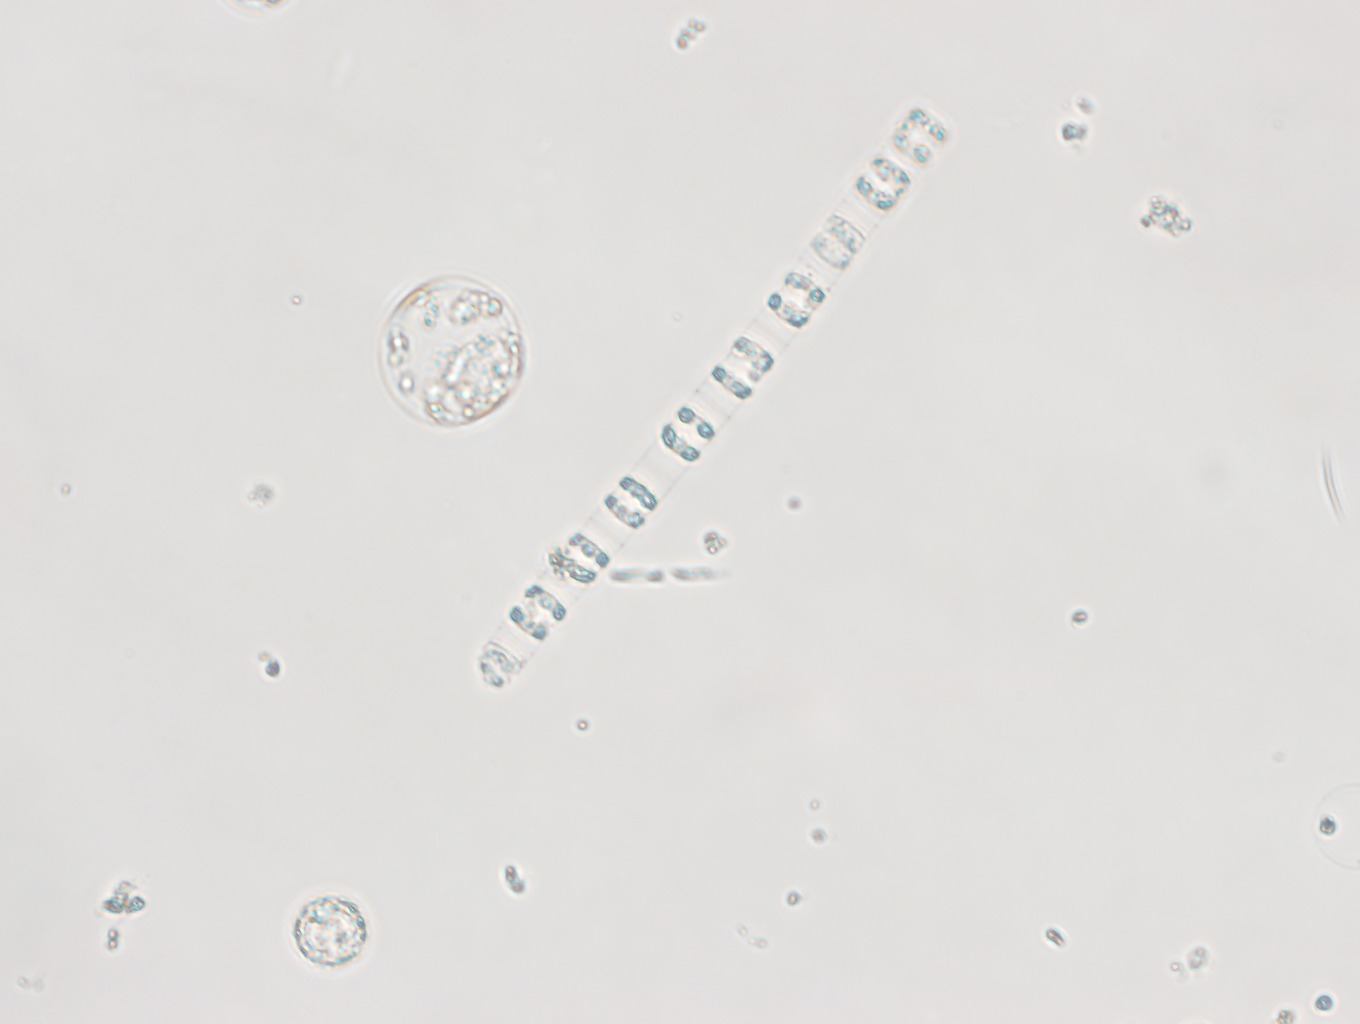skeletonema: (472, 100, 951, 693)
